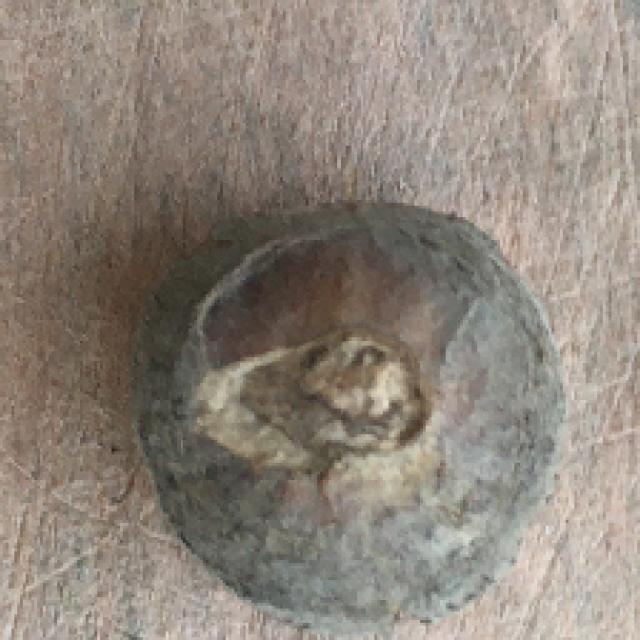damagedHazelnut: (129, 178, 569, 640)
